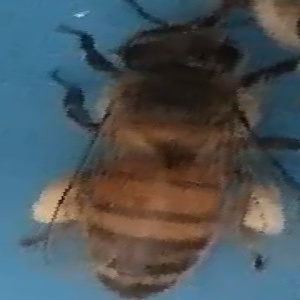bee: (35, 1, 290, 299)
